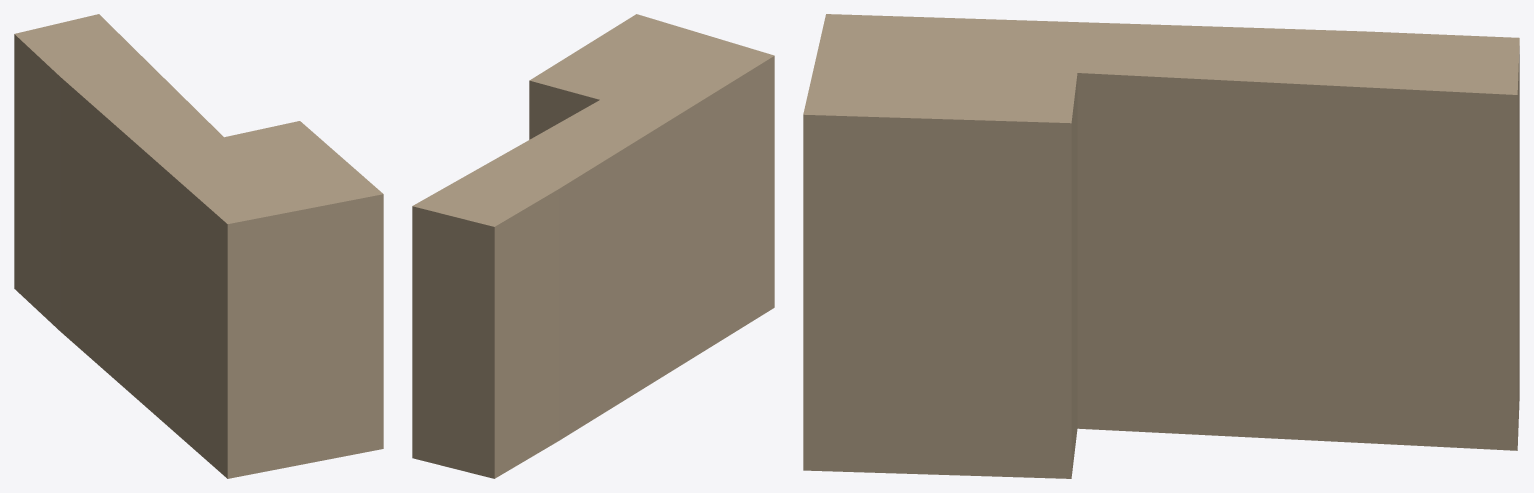
File: bld_98640363.dae
3 views of the same model, side by side, from view 1: azimuth 30°, elevation 25°; view 2: azimuth 150°, elevation 25°; view 3: azimuth 270°, elevation 25° (orthographic). The views are drawn at different scales.
Visible parts, largest first — view 1: Pink Mary; view 2: Pink Mary; view 3: Pink Mary.
Boxes of the visible parts, box(x1,y1,x2,y2) form: Pink Mary: box(14, 14, 383, 478); Pink Mary: box(412, 14, 774, 478); Pink Mary: box(803, 14, 1519, 478).
Size of the model in its own units: 5.27 by 14.6 by 8.
